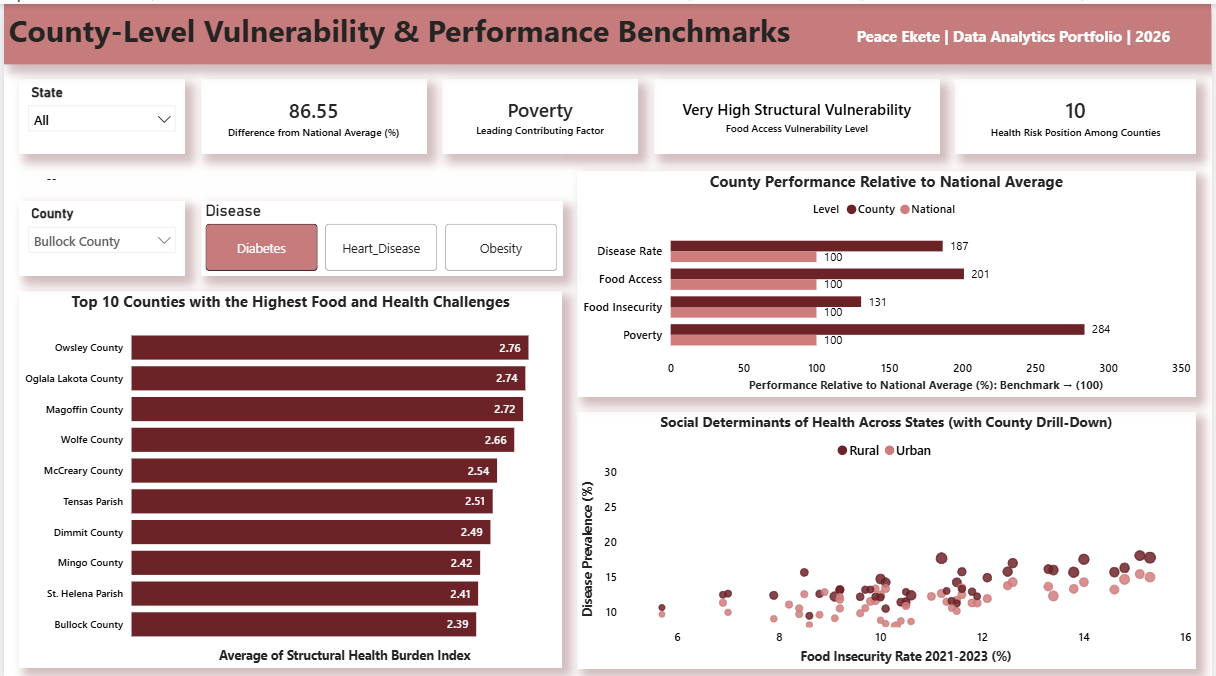

Layout of this report page (visuals, bound fields, positions):
{"tool":"powerbi","page":{"name":" Page 4_county_vulnerability","canvas":[1280,720],"ordinal":3},"visuals":[{"type":"slicer","fields":{"Values":["State_Lookup.State_Full"]},"box":[16,80,176,80],"z":0},{"type":"advancedSlicerVisual","fields":{"Values":["Slicer_Table.Outcome_Name"]},"box":[208,208,384,80],"z":1000},{"type":"slicer","fields":{"Values":["master_county_final.County"]},"box":[16,208,176,80],"z":2000},{"type":"scatterChart","title":"Social Determinants of Health Across States (with County Drill-Down)","fields":{"Y":["master_county_final.County_Outcome_Value"],"X":["Avg(master_county_final.Food_Insecurity_21_23)"],"Series":["master_county_final.Urban_Rural"],"Category":["master_county_final.State.","master_county_final.County"],"Size":["master_county_final.National poverty Rate"]},"box":[608,432,656,272],"z":3000},{"type":"cardVisual","fields":{"Data":["master_county_final.Structural_Risk_Rank"]},"box":[1008,80,256,80],"z":4000},{"type":"cardVisual","fields":{"Data":["master_county_final.Risk_Category"]},"box":[688,80,304,80],"z":5000},{"type":"cardVisual","fields":{"Data":["master_county_final.Disease_vs_National"]},"box":[208,80,240,80],"z":6000},{"type":"cardVisual","fields":{"Data":["master_county_final.Dominant_Driver"]},"box":[464,80,208,80],"z":7000},{"type":"clusteredBarChart","title":"Top 10 Counties with the Highest Food and Health Challenges","fields":{"Category":["master_county_final.County"],"Y":["Avg(master_county_final.Structural Health Burden Index)"]},"box":[16,304,576,400],"z":8000},{"type":"clusteredBarChart","title":"County Performance Relative to National Average","fields":{"Category":["County Benchmark.Metric"],"Series":["County Benchmark.Level"],"Y":["master_county_final.Benchmark_Value"]},"box":[608,176,656,240],"z":9000},{"type":"cardVisual","fields":{"Data":["COVID_FoodInsecurity_ByUrban.County Selection"]},"box":[16,160,576,48],"z":10000},{"type":"textbox","box":[0,0,1280,64],"z":11001}]}

Visuals, with their boxes in screenshot pixels (x1, y1, x2, y2), scaled from the page's 1280x720 canvas onto the 1216x676 screenshot:
slicer - State_Lookup.State_Full: l=15, t=75, r=182, b=150
advancedSlicerVisual - Slicer_Table.Outcome_Name: l=198, t=195, r=562, b=270
slicer - master_county_final.County: l=15, t=195, r=182, b=270
"Social Determinants of Health Across States (with County Drill-Down)" scatterChart: l=578, t=406, r=1201, b=661
cardVisual - master_county_final.Structural_Risk_Rank: l=958, t=75, r=1201, b=150
cardVisual - master_county_final.Risk_Category: l=654, t=75, r=942, b=150
cardVisual - master_county_final.Disease_vs_National: l=198, t=75, r=426, b=150
cardVisual - master_county_final.Dominant_Driver: l=441, t=75, r=638, b=150
"Top 10 Counties with the Highest Food and Health Challenges" clusteredBarChart: l=15, t=285, r=562, b=661
"County Performance Relative to National Average" clusteredBarChart: l=578, t=165, r=1201, b=391
cardVisual - COVID_FoodInsecurity_ByUrban.County Selection: l=15, t=150, r=562, b=195
textbox: l=0, t=0, r=1215, b=60
